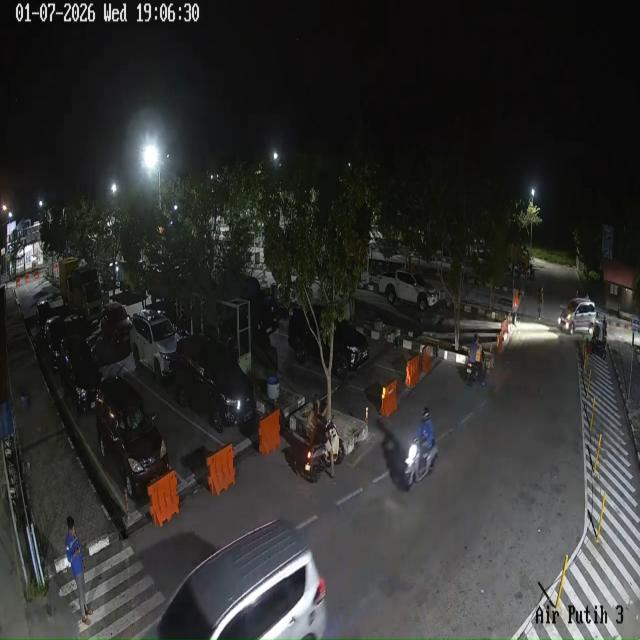Golongan IVA: (154, 519, 327, 640), (96, 376, 170, 498), (172, 336, 256, 432), (288, 306, 369, 380), (129, 310, 179, 384), (60, 335, 103, 415), (558, 298, 596, 335), (101, 301, 131, 345), (43, 316, 67, 370), (35, 300, 53, 340)
Golongan IVB: (378, 270, 439, 312)
Golongan VB: (59, 258, 108, 322)
